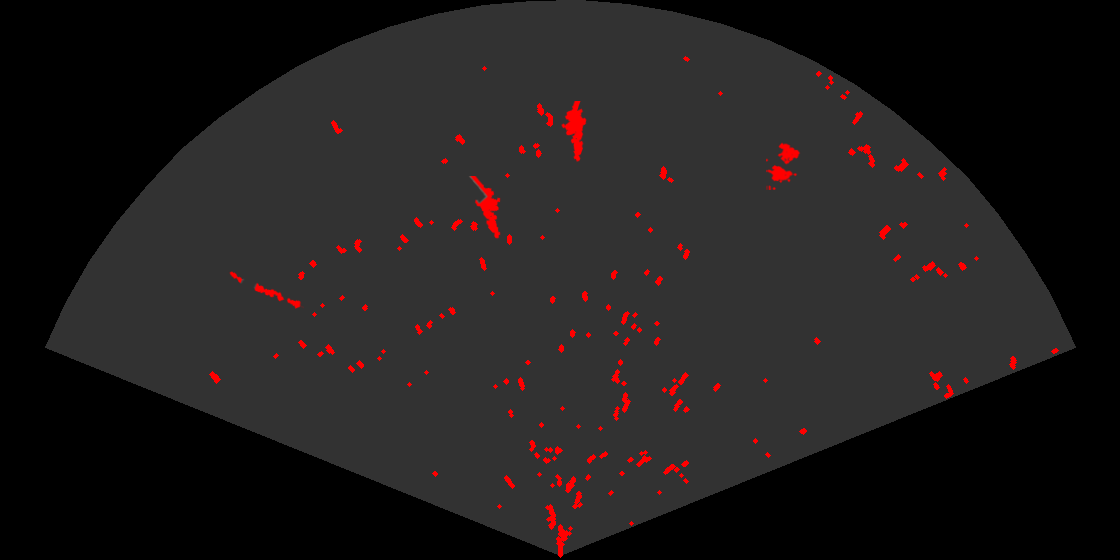cage: (766, 141, 802, 190)
chain: (228, 270, 304, 310)
frogman: (468, 176, 502, 240), (560, 101, 588, 164)
